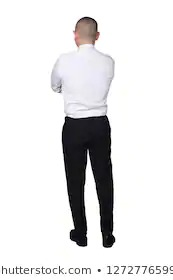F_dress pants: (58, 115, 119, 234)
F_shirt: (48, 45, 117, 112)
